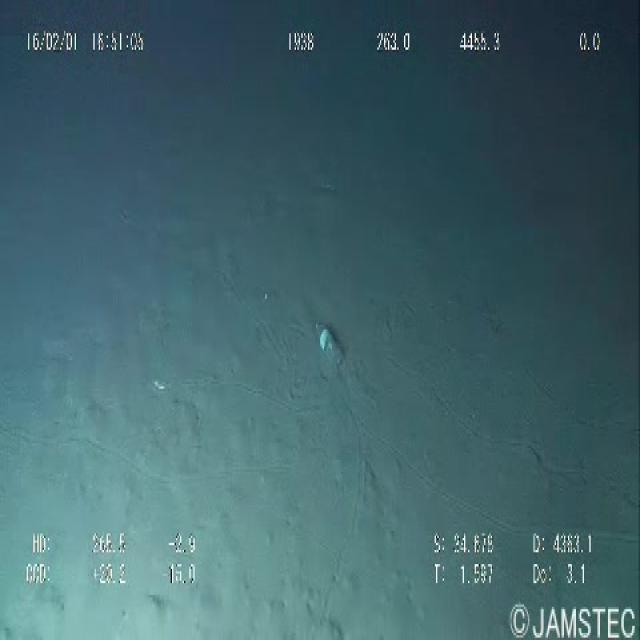plastic: (304, 306, 353, 374)
